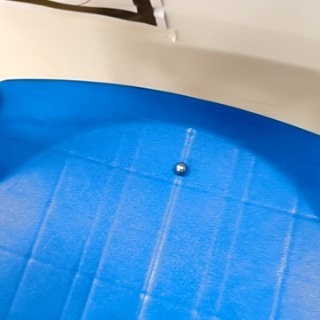ironball: (166, 152, 190, 183)
